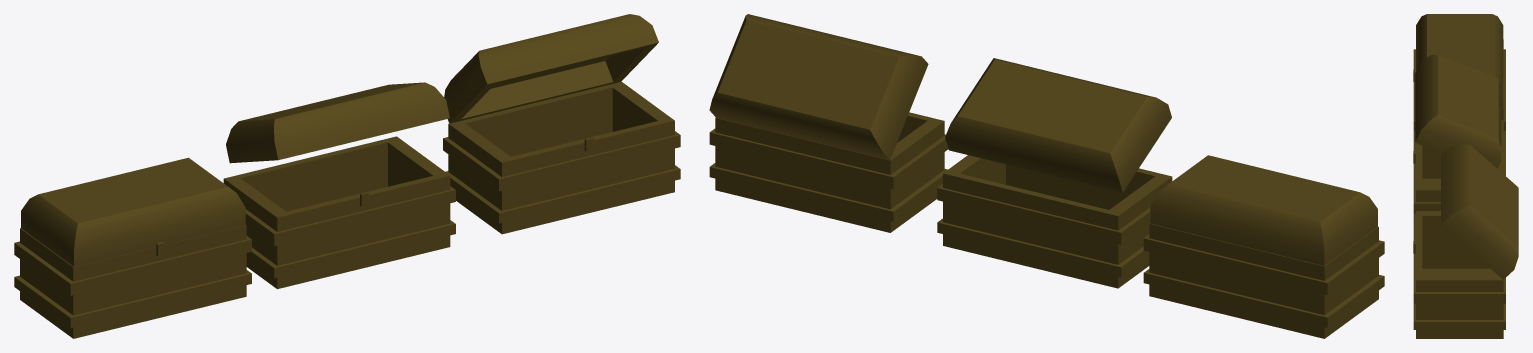
The model's file is Chest_v2.fbx.
The picture shows the model from 3 angles, left to right: view 1: azimuth 30°, elevation 25°; view 2: azimuth 150°, elevation 25°; view 3: azimuth 270°, elevation 25°; orthographic projection. The views are drawn at different scales.
Visible parts, largest first — view 1: Open_Chest, Closed_Chest, Box, Lid; view 2: Open_Chest, Closed_Chest, Box, Lid; view 3: Open_Chest, Lid, Closed_Chest, Box.
Part boxes in pixels (x1,y1,x2,y2): Open_Chest: [443, 14, 680, 234]; Closed_Chest: [14, 157, 251, 338]; Box: [223, 136, 455, 289]; Lid: [226, 82, 449, 163]; Open_Chest: [709, 14, 948, 232]; Closed_Chest: [1143, 155, 1384, 338]; Box: [937, 155, 1172, 288]; Lid: [945, 58, 1171, 192]; Open_Chest: [1413, 143, 1518, 338]; Lid: [1415, 55, 1501, 168]; Closed_Chest: [1413, 14, 1505, 130]; Box: [1413, 121, 1505, 220].
Size of the model in its own units: 32.94 by 8.12 by 6.02.
